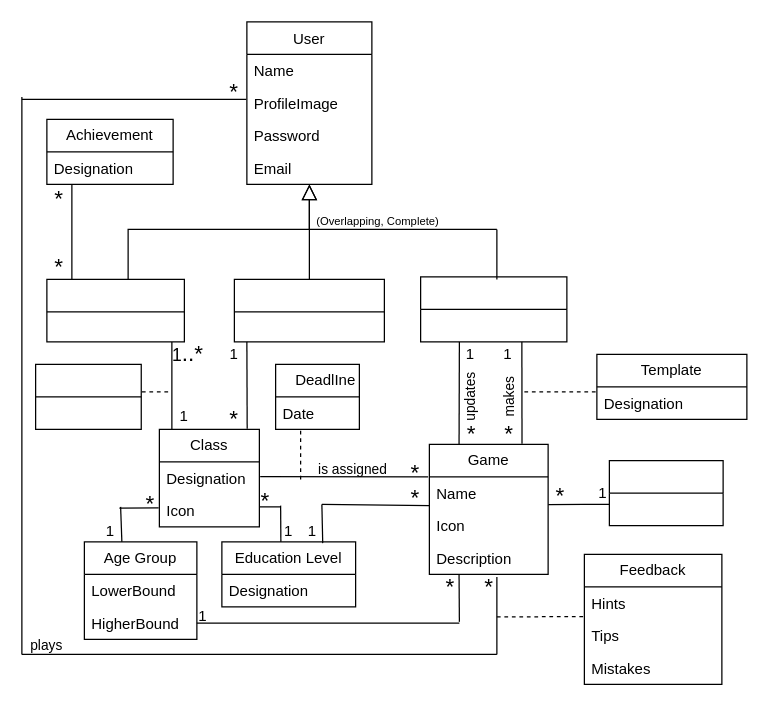
This 769x710 diagram has some shape labels left out. The shapes that lost their labels are listed below. From the top down, each one's centre as x and y in pixels, then its label:
At [115,310]: "Student".
At [308,310]: "Teacher".
At [493,309]: "Game Developer".
At [87,396]: "Leaderboard".
At [665,492]: "Bibliography".
